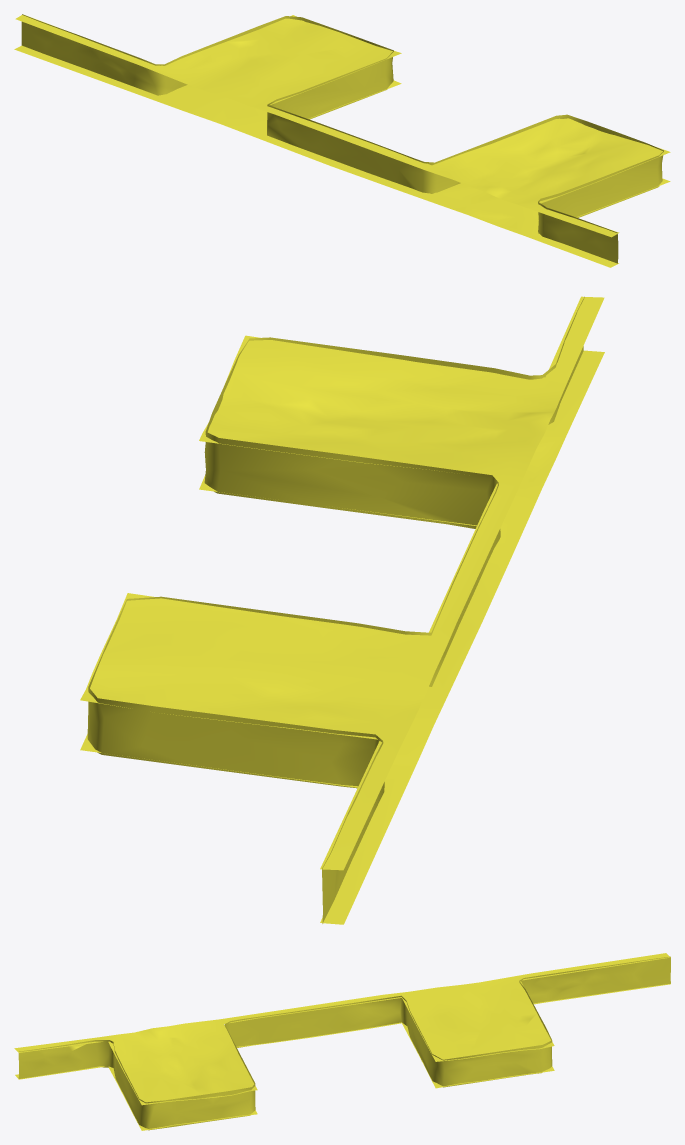
The model's file is Unique 3 .fbx.
The picture shows the model from 3 angles, top to bottom: view 1: azimuth 30°, elevation 25°; view 2: azimuth 150°, elevation 25°; view 3: azimuth 270°, elevation 25°; orthographic projection. The views are drawn at different scales.
Parts seen in each view (by area): view 1: Unique_3.002, Unique_3.001, Unique_3; view 2: Unique_3.002, Unique_3.001, Unique_3; view 3: Unique_3.002, Unique_3.001, Unique_3.
Part boxes in pixels (x1,y1,x2,y2): Unique_3.002: (15,15,670,237); Unique_3.001: (21,14,663,263); Unique_3: (14,45,670,267); Unique_3.002: (80,296,604,870); Unique_3.001: (87,296,584,923); Unique_3: (80,350,604,924); Unique_3.002: (14,953,670,1105); Unique_3.001: (18,956,670,1130); Unique_3: (15,983,670,1130).
Bounding box in the file's own units: 1144 × 102 × 2088.
